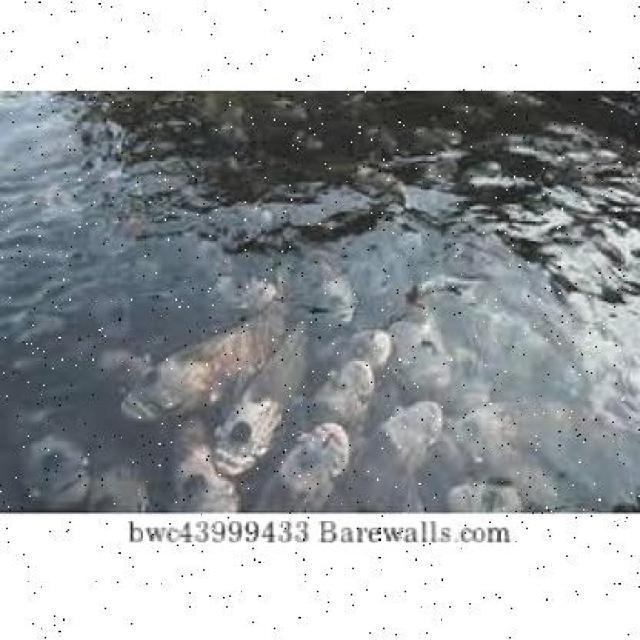gurame: (128, 324, 257, 412), (215, 340, 302, 463), (368, 396, 448, 510), (258, 422, 357, 507), (14, 419, 91, 504), (168, 427, 238, 515), (309, 352, 380, 418)
